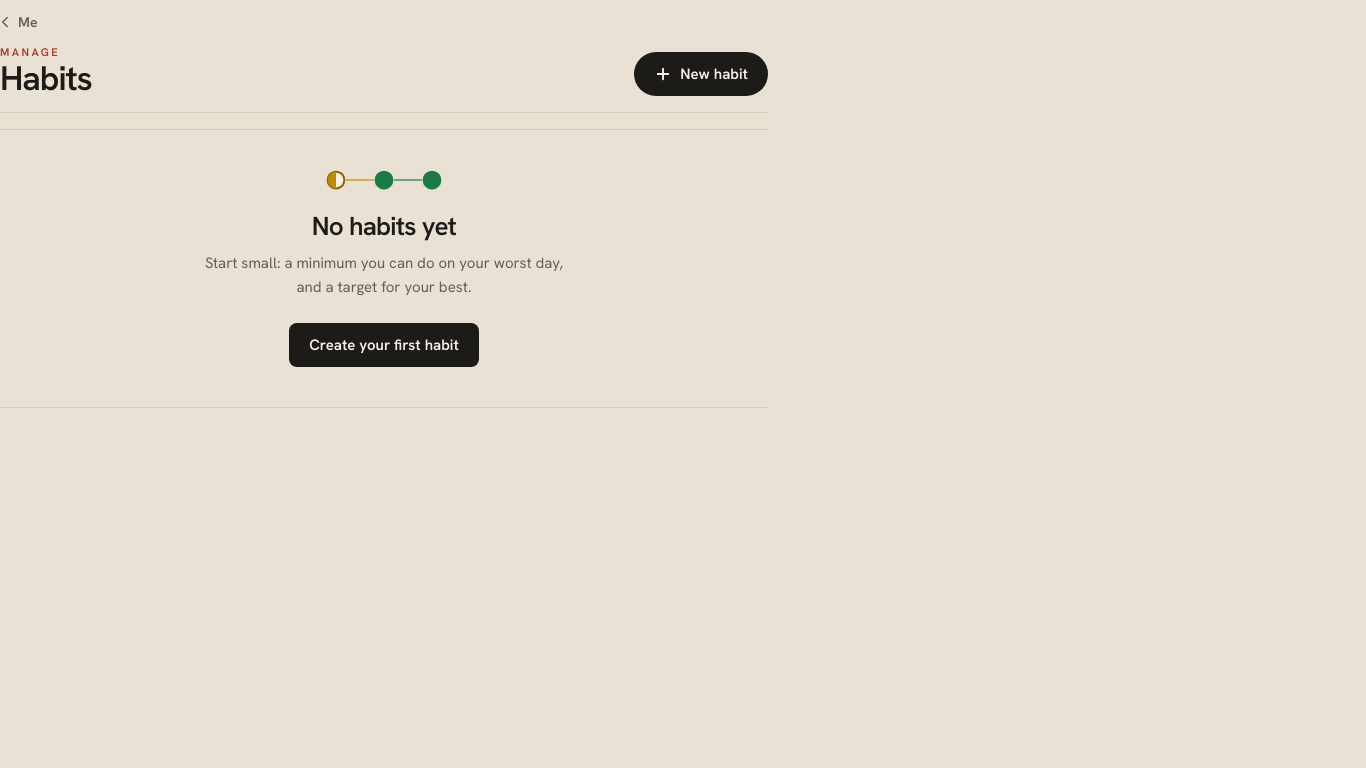
HabitsPage › opens the form from the empty state
Step 1. Click the button "Create your first habit" → (384, 345), box [289,323,479,367]
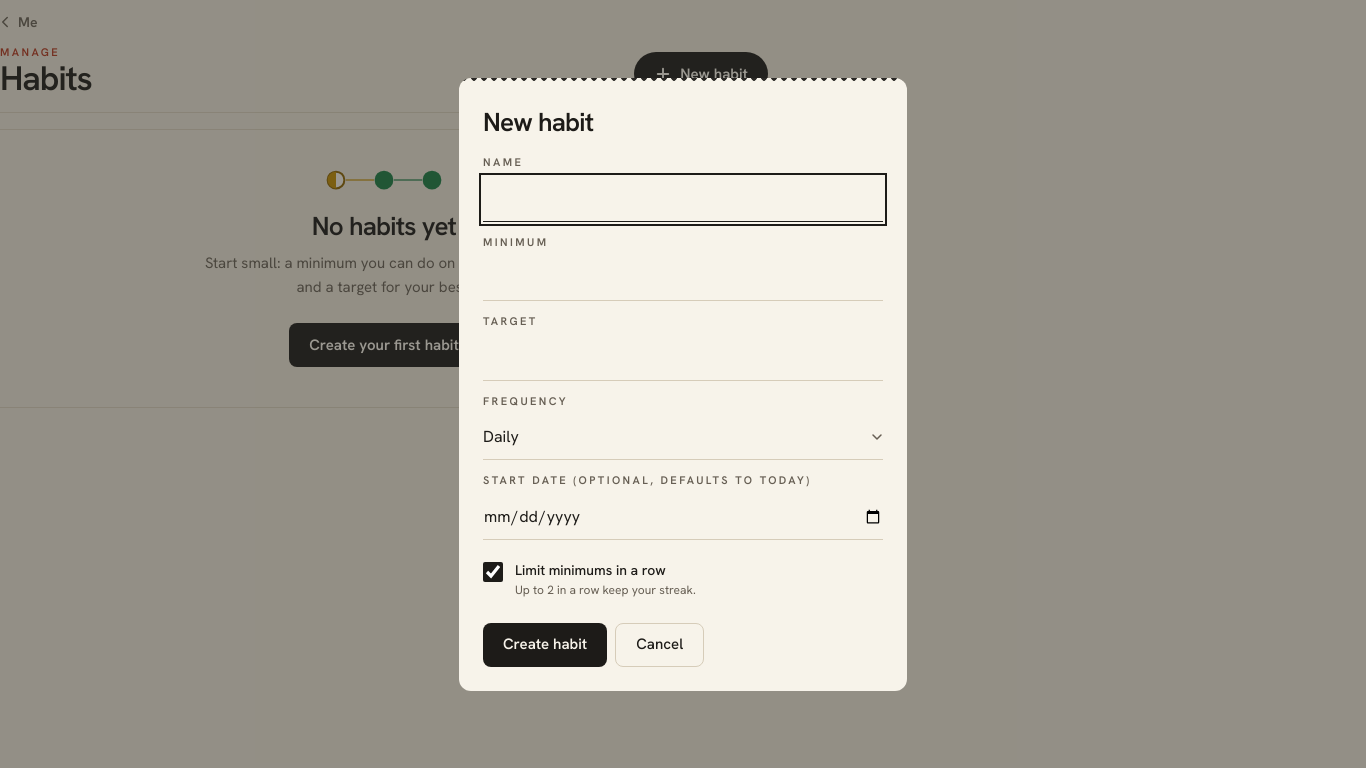
Check: the field labelled "Name" is shown, box [483,176,883,222]
